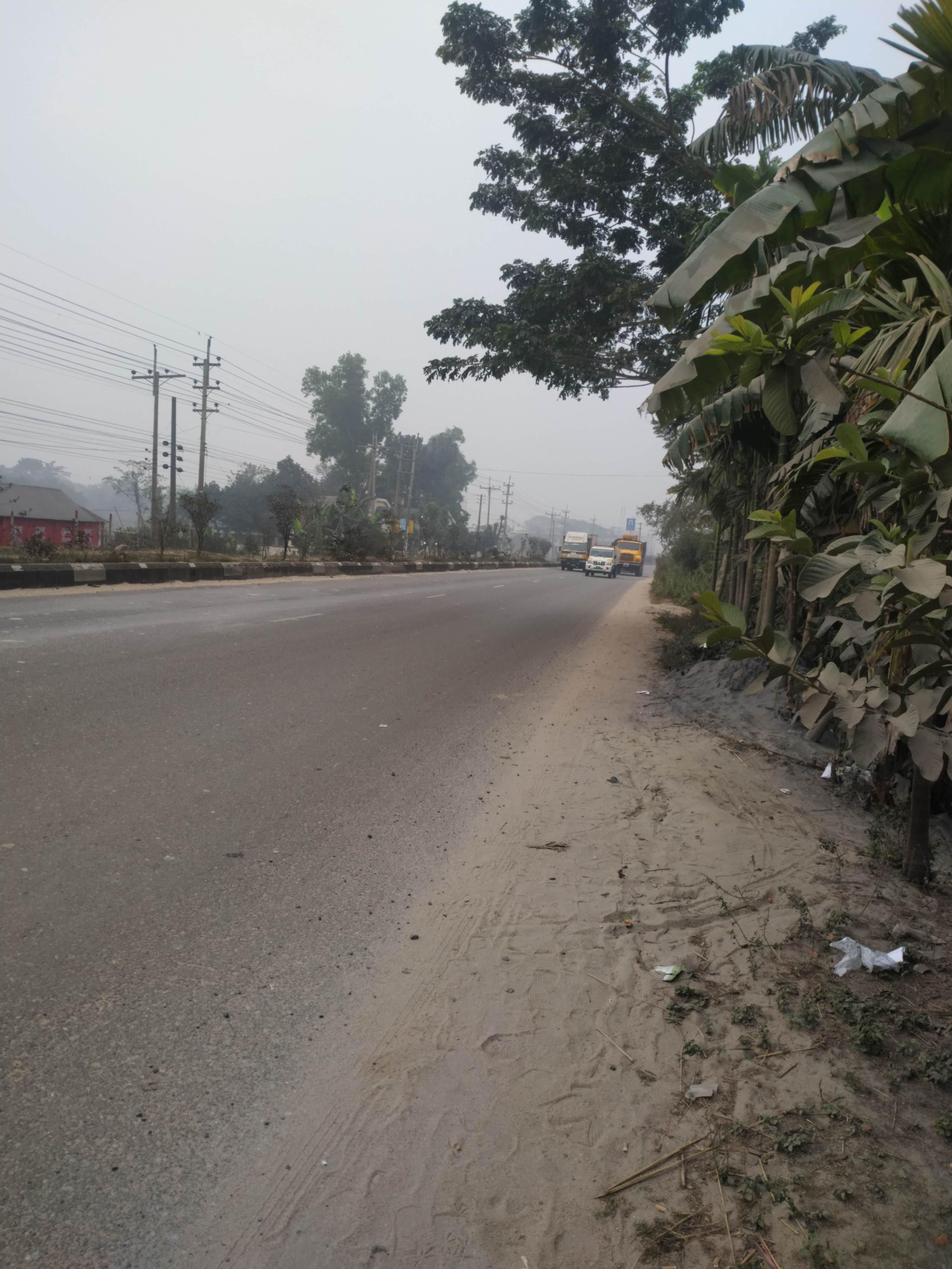Truck: (527, 510, 598, 576), (611, 527, 653, 576), (582, 542, 627, 587)
